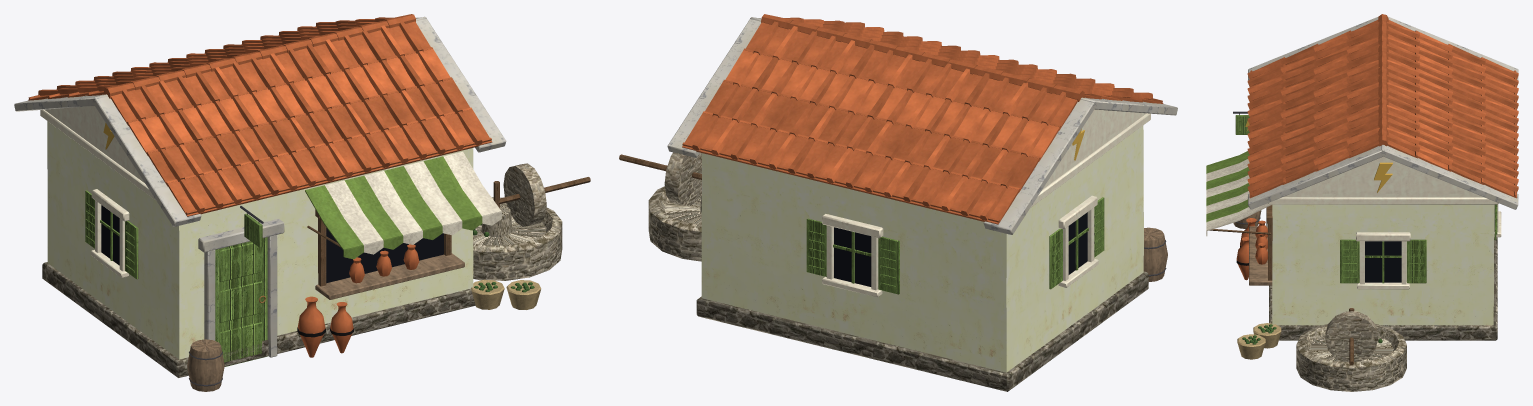
The model's file is biz_olive-press_t1.glb.
3 views of the same model, side by side, from view 1: azimuth 30°, elevation 25°; view 2: azimuth 150°, elevation 25°; view 3: azimuth 270°, elevation 25° (orthographic). The views are drawn at different scales.
Visible parts, largest first — view 1: plaster, terracotta0, terracotta1, terracotta2, marble, olive_wood, stone, cloth_olive, cloth_cream, stone_dark, cream, wood (+4 smaller); view 2: plaster, terracotta0, terracotta1, terracotta2, stone_dark, cream, marble, stone, olive_wood, dark, wood; view 3: plaster, terracotta0, terracotta1, terracotta2, cream, stone, marble, stone_dark, olive_wood, cloth_cream, cloth_olive, dark (+5 smaller).
Part boxes in pixels (left/top/right/bottom): plaster: left=47, top=121, right=473, bottom=359; terracotta0: left=28, top=17, right=492, bottom=216; terracotta1: left=28, top=14, right=491, bottom=214; terracotta2: left=49, top=19, right=471, bottom=203; marble: left=14, top=16, right=506, bottom=357; olive_wood: left=85, top=190, right=267, bottom=366; stone: left=473, top=163, right=562, bottom=280; cloth_olive: left=305, top=156, right=482, bottom=259; cloth_cream: left=325, top=151, right=501, bottom=254; stone_dark: left=42, top=262, right=475, bottom=377; cream: left=40, top=106, right=156, bottom=277; wood: left=187, top=253, right=464, bottom=391; plaster: left=701, top=125, right=1143, bottom=372; terracotta0: left=682, top=17, right=1163, bottom=224; terracotta1: left=682, top=14, right=1162, bottom=222; terracotta2: left=703, top=19, right=1141, bottom=211; stone_dark: left=696, top=271, right=1148, bottom=391; cream: left=822, top=109, right=1150, bottom=297; marble: left=667, top=17, right=1177, bottom=234; stone: left=648, top=152, right=701, bottom=261; olive_wood: left=806, top=197, right=1104, bottom=294; dark: left=834, top=212, right=1087, bottom=286; wood: left=1143, top=227, right=1167, bottom=281; plaster: left=1272, top=204, right=1494, bottom=325; terracotta0: left=1247, top=20, right=1518, bottom=198; terracotta1: left=1247, top=14, right=1518, bottom=197; terracotta2: left=1247, top=31, right=1518, bottom=185; cream: left=1268, top=156, right=1501, bottom=289; stone: left=1296, top=311, right=1406, bottom=391; marble: left=1248, top=16, right=1518, bottom=226; stone_dark: left=1269, top=237, right=1497, bottom=340; olive_wood: left=1235, top=115, right=1497, bottom=283; cloth_cream: left=1206, top=159, right=1271, bottom=236; cloth_olive: left=1206, top=151, right=1249, bottom=222; dark: left=1365, top=241, right=1401, bottom=282.
Bounding box in the file's own units: 8.75 × 4.25 × 5.93.
21 materials, 18 textured.
